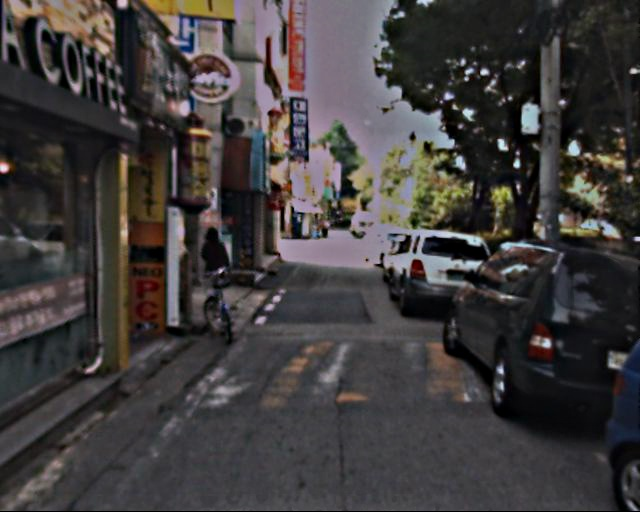person: (197, 223, 234, 313)
